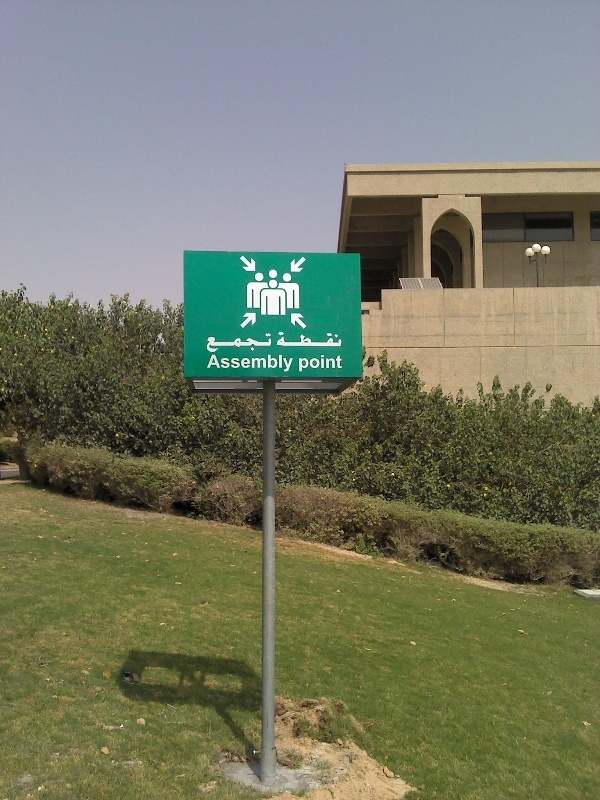text: (209, 333, 224, 353), (225, 333, 240, 353), (241, 333, 256, 353), (257, 333, 272, 353), (209, 354, 224, 373), (225, 354, 240, 373), (241, 354, 256, 373), (257, 354, 272, 373), (273, 354, 288, 373), (305, 354, 320, 373), (321, 354, 336, 373), (289, 331, 304, 348), (305, 331, 320, 348), (321, 331, 336, 348), (277, 331, 288, 348), (298, 354, 304, 373), (337, 354, 343, 373), (289, 354, 294, 373), (337, 331, 342, 348), (207, 333, 208, 353), (207, 354, 208, 373)
